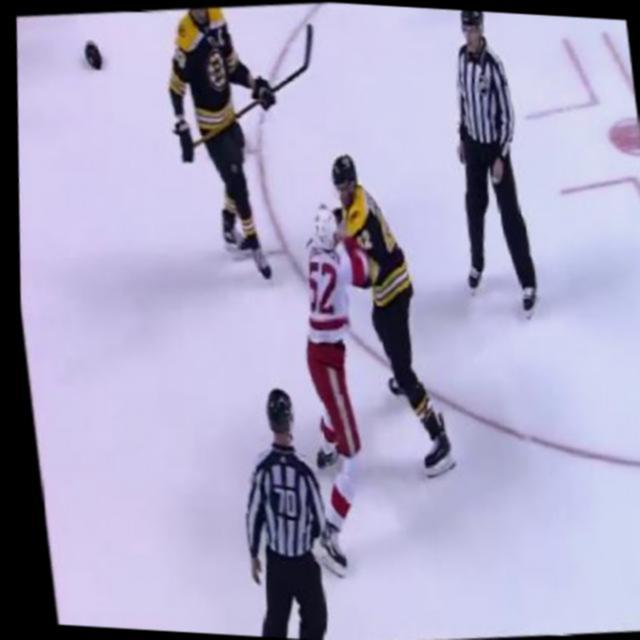fight: (258, 134, 471, 496)
